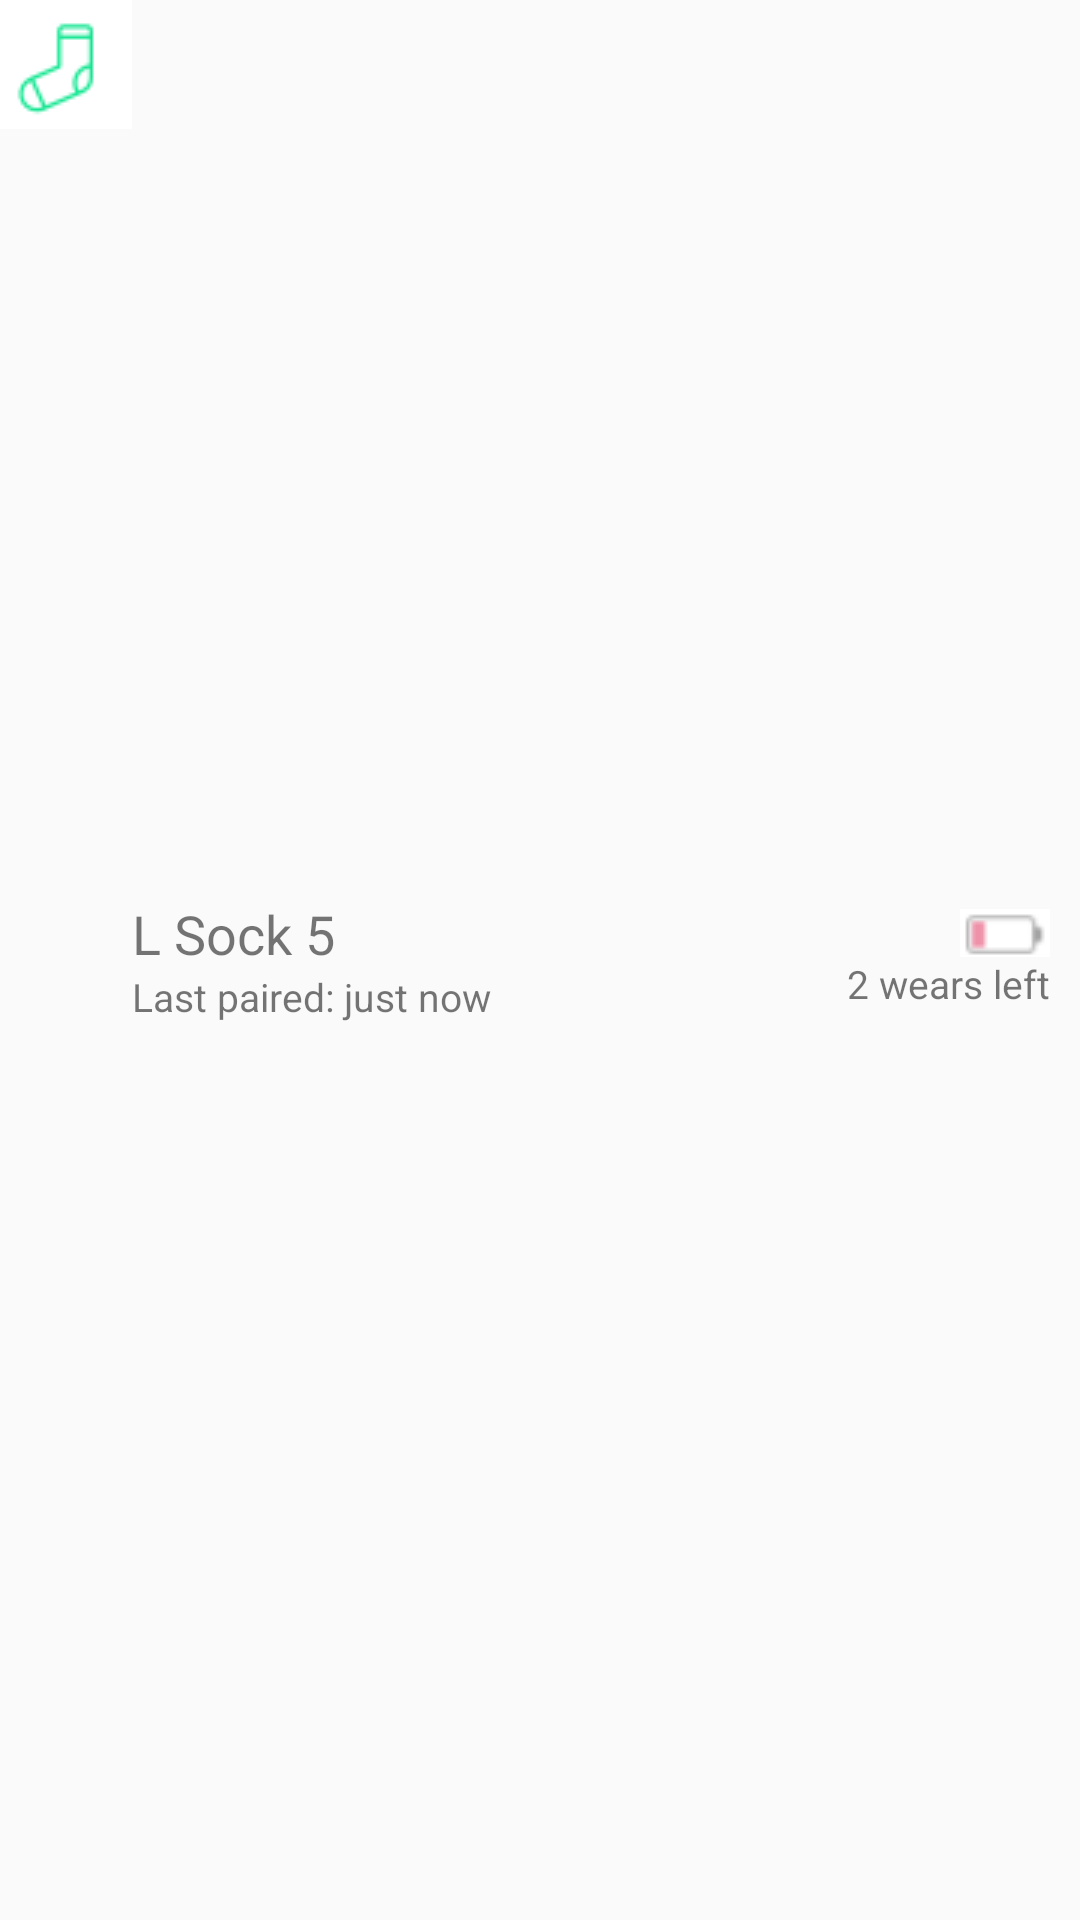

Icon bounding boxes for this 1080*1920 phone screenshot, format (x1=x1, y1=y1, x2=x2, y2=y2):
batter ex: (x1=966, y1=915, x2=1043, y2=954)
